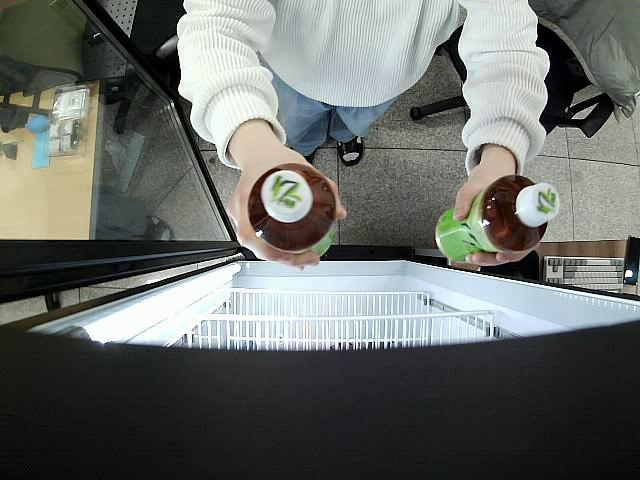00_hand: (226, 148, 346, 269), (449, 166, 544, 268)
19_17cha: (436, 175, 559, 261), (248, 163, 336, 258)
